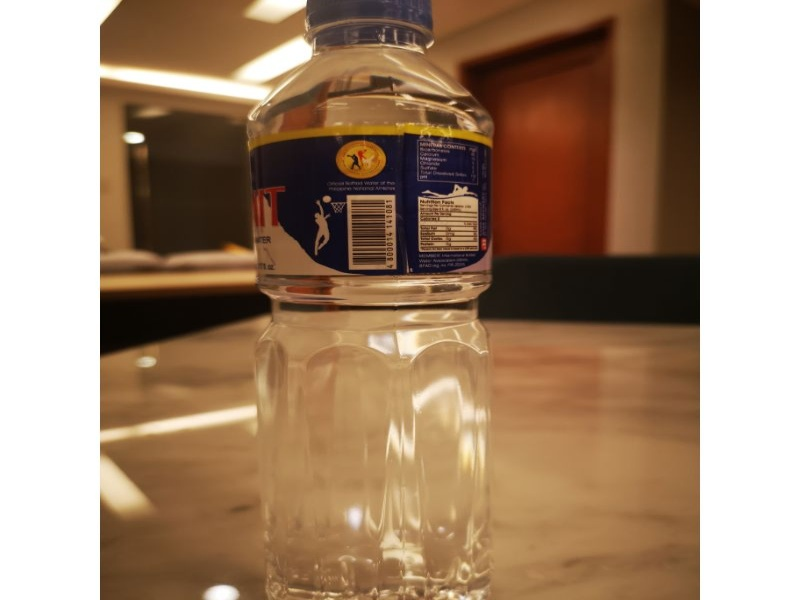PET #1: (249, 4, 498, 600)
